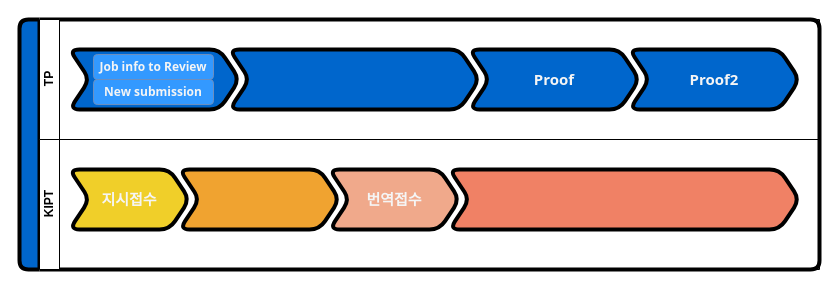
This 838x288 diagram has some shape labels left out. The shapes that lost their labels are listed below. From the top down, each one's centre as x and y in pixels, then its label:
At [354,79]: "PostEdit".
At [259,199]: "번역의뢰".
At [624,199]: "검토단계".
